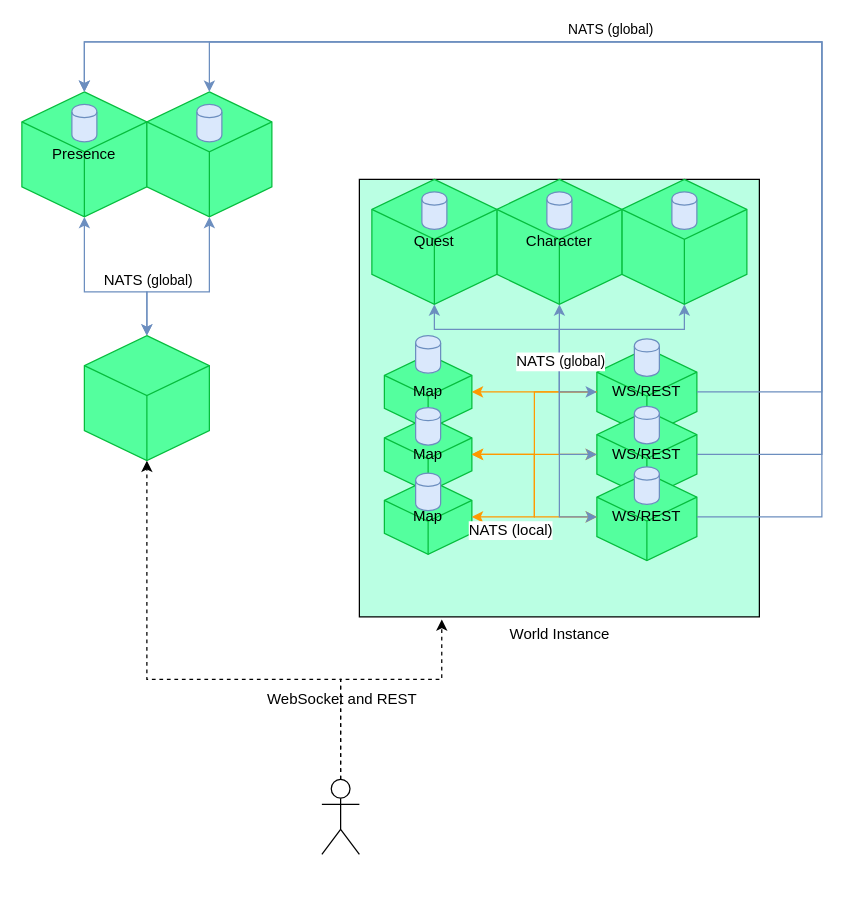
Image size: 854x903. Some labels were removed from this diagram. Here are the shapes that lost their labels. From the top down, the box of each, then its label:
(146, 91, 272, 217): Account
(621, 178, 747, 304): Commerce
(83, 334, 209, 461): Lobby
(321, 778, 359, 854): Actor
